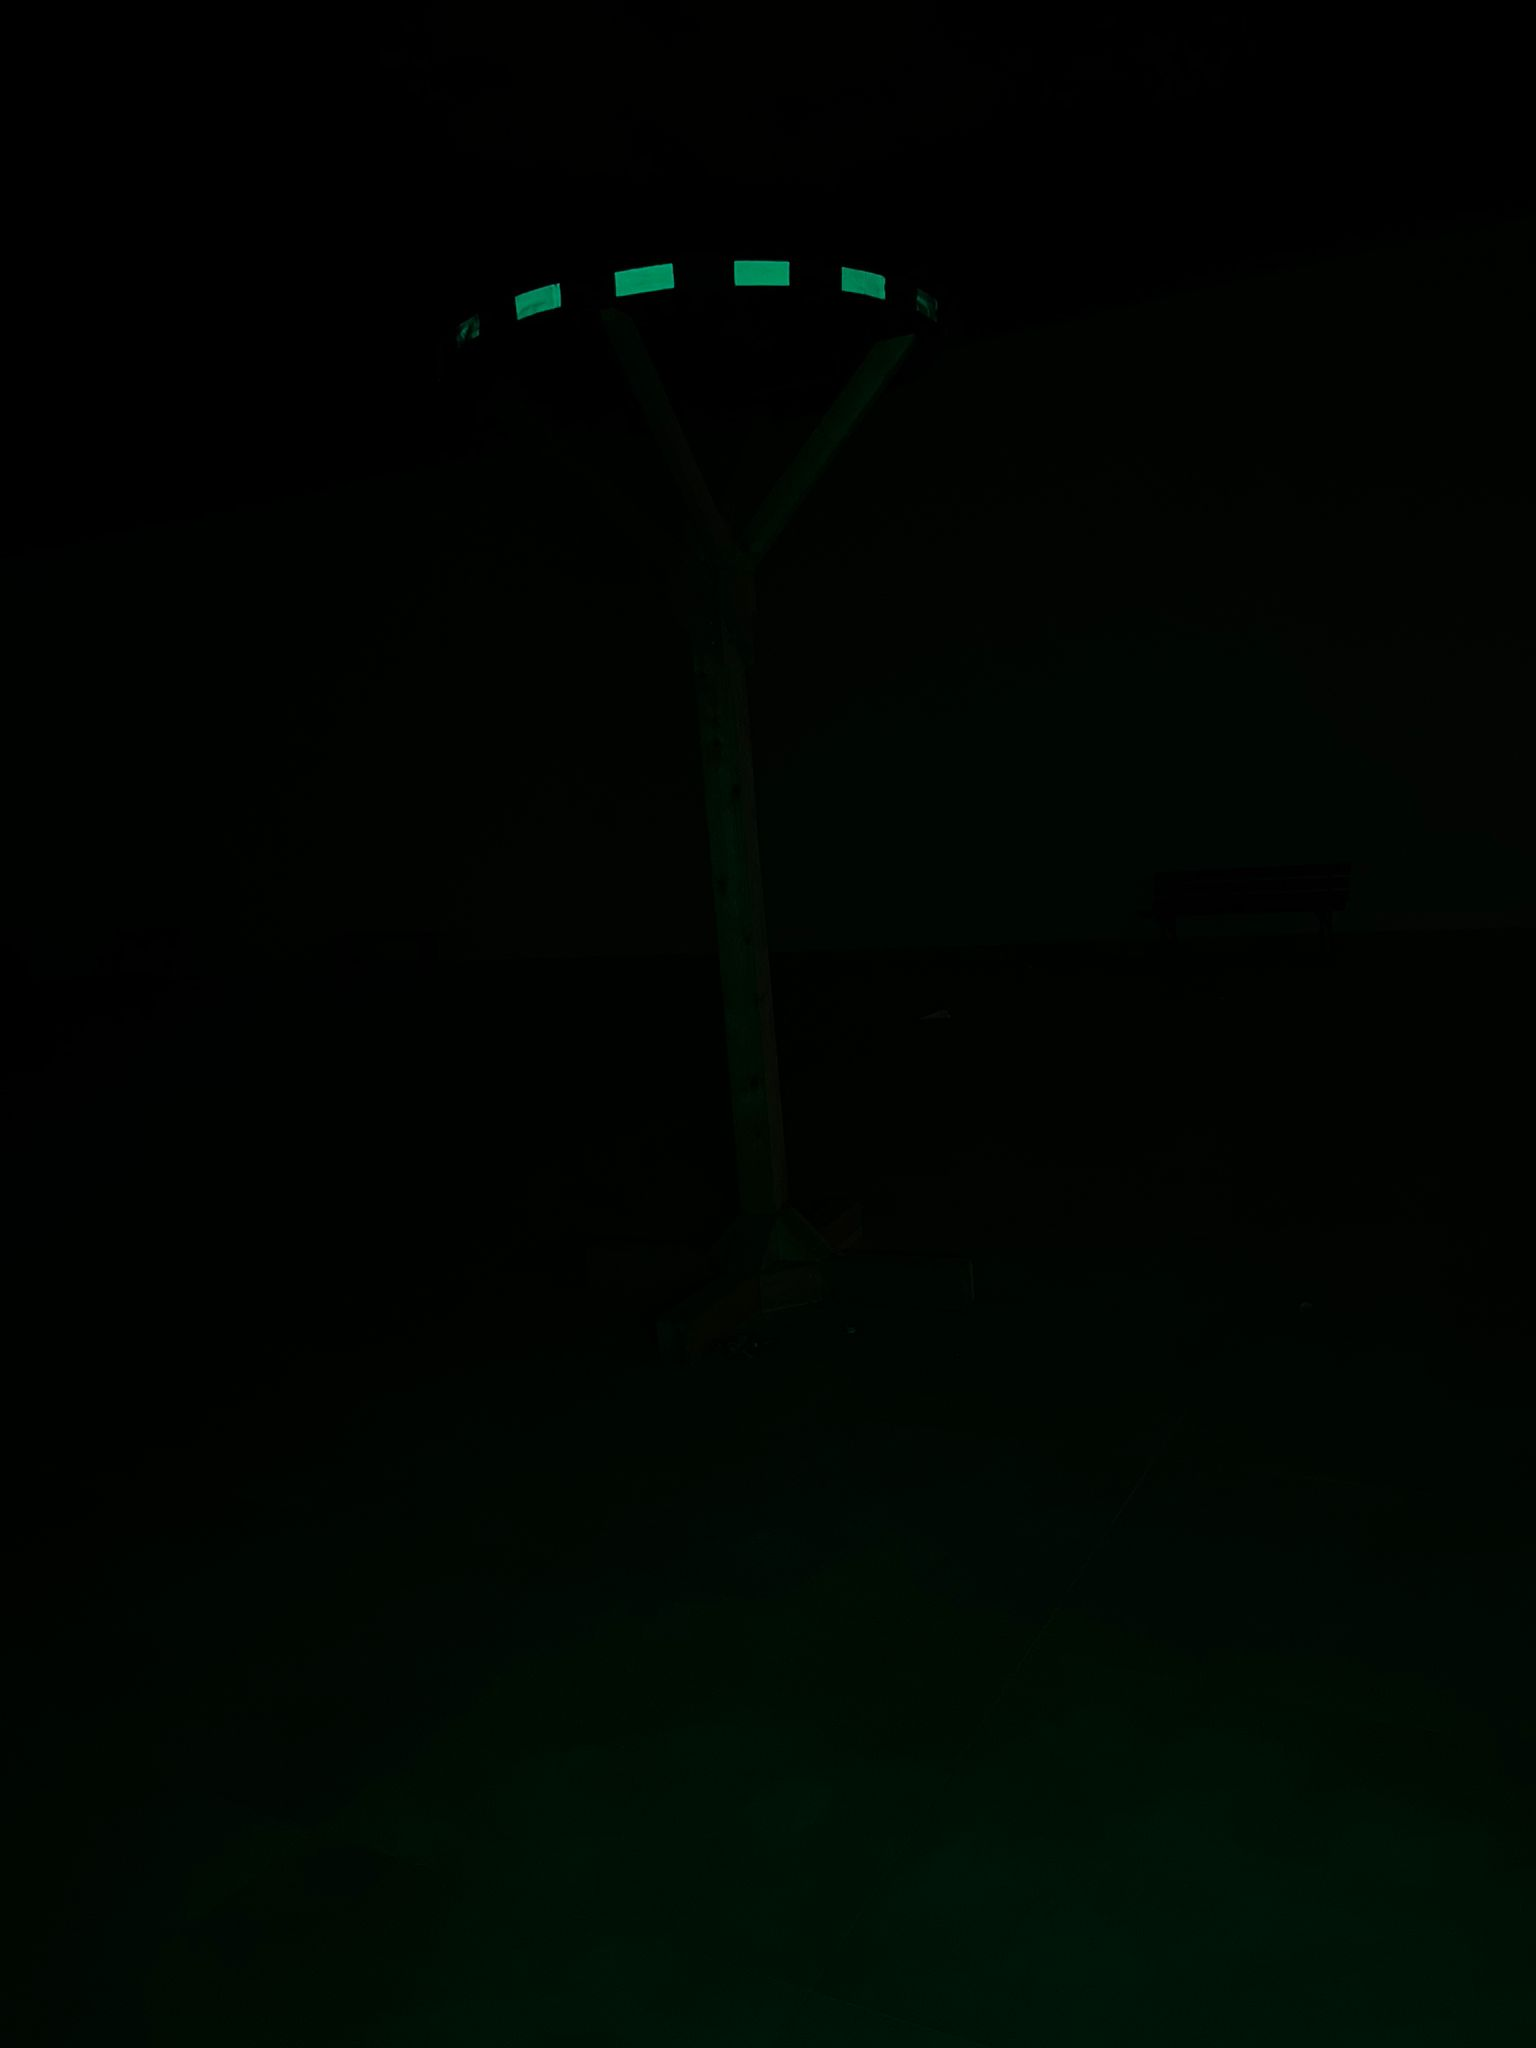hoop: (449, 261, 904, 340)
